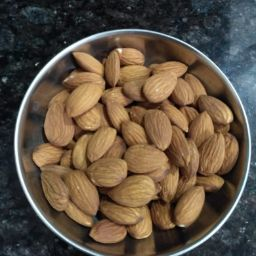Almonds: (70, 45, 234, 245), (55, 51, 205, 244), (35, 78, 226, 219), (87, 62, 235, 233), (25, 103, 165, 250)
